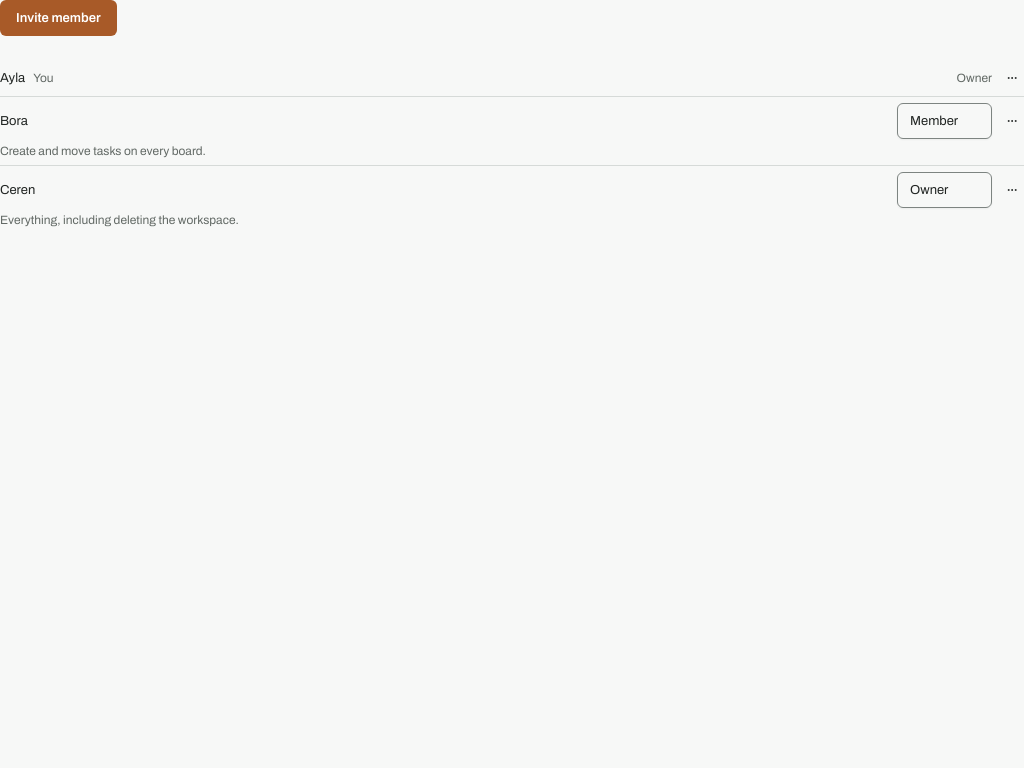
MembersSettings — changing a role › promoting someone to owner › reverts the select when the owner confirmation is cancelled
Check: the text "Bora" is shown, box x1=0 y1=112 x2=28 y2=130
Select "Owner" in the dropdown named "Role for Bora" at (944, 121), box x1=897 y1=103 x2=992 y2=139
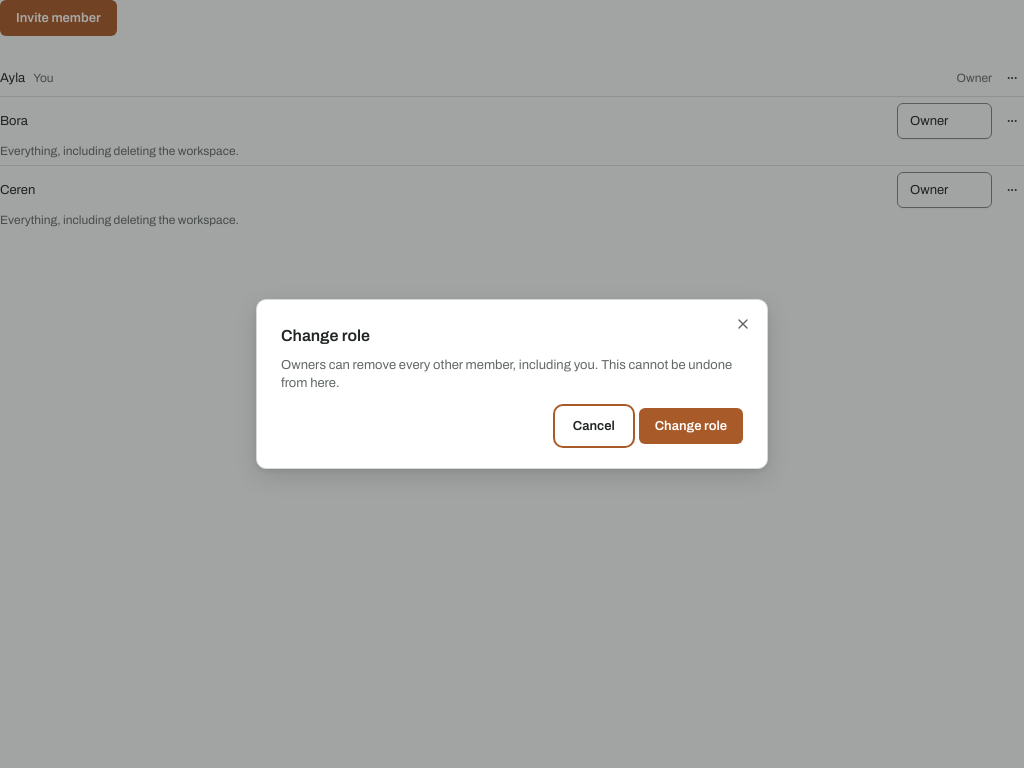
Check: the text "Owners can remove every other member, including you. This cannot be undone from here." is shown, box x1=281 y1=358 x2=732 y2=390
Click the button "Cancel" at (594, 426), box x1=557 y1=408 x2=631 y2=444
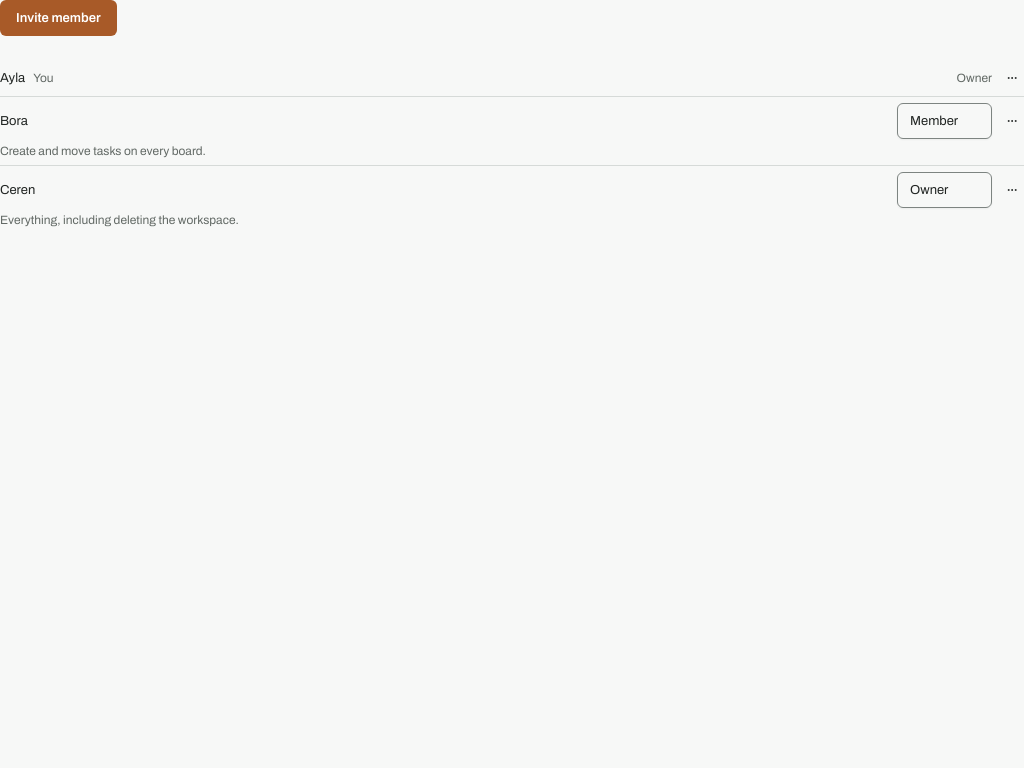
Check: the dialog is gone
